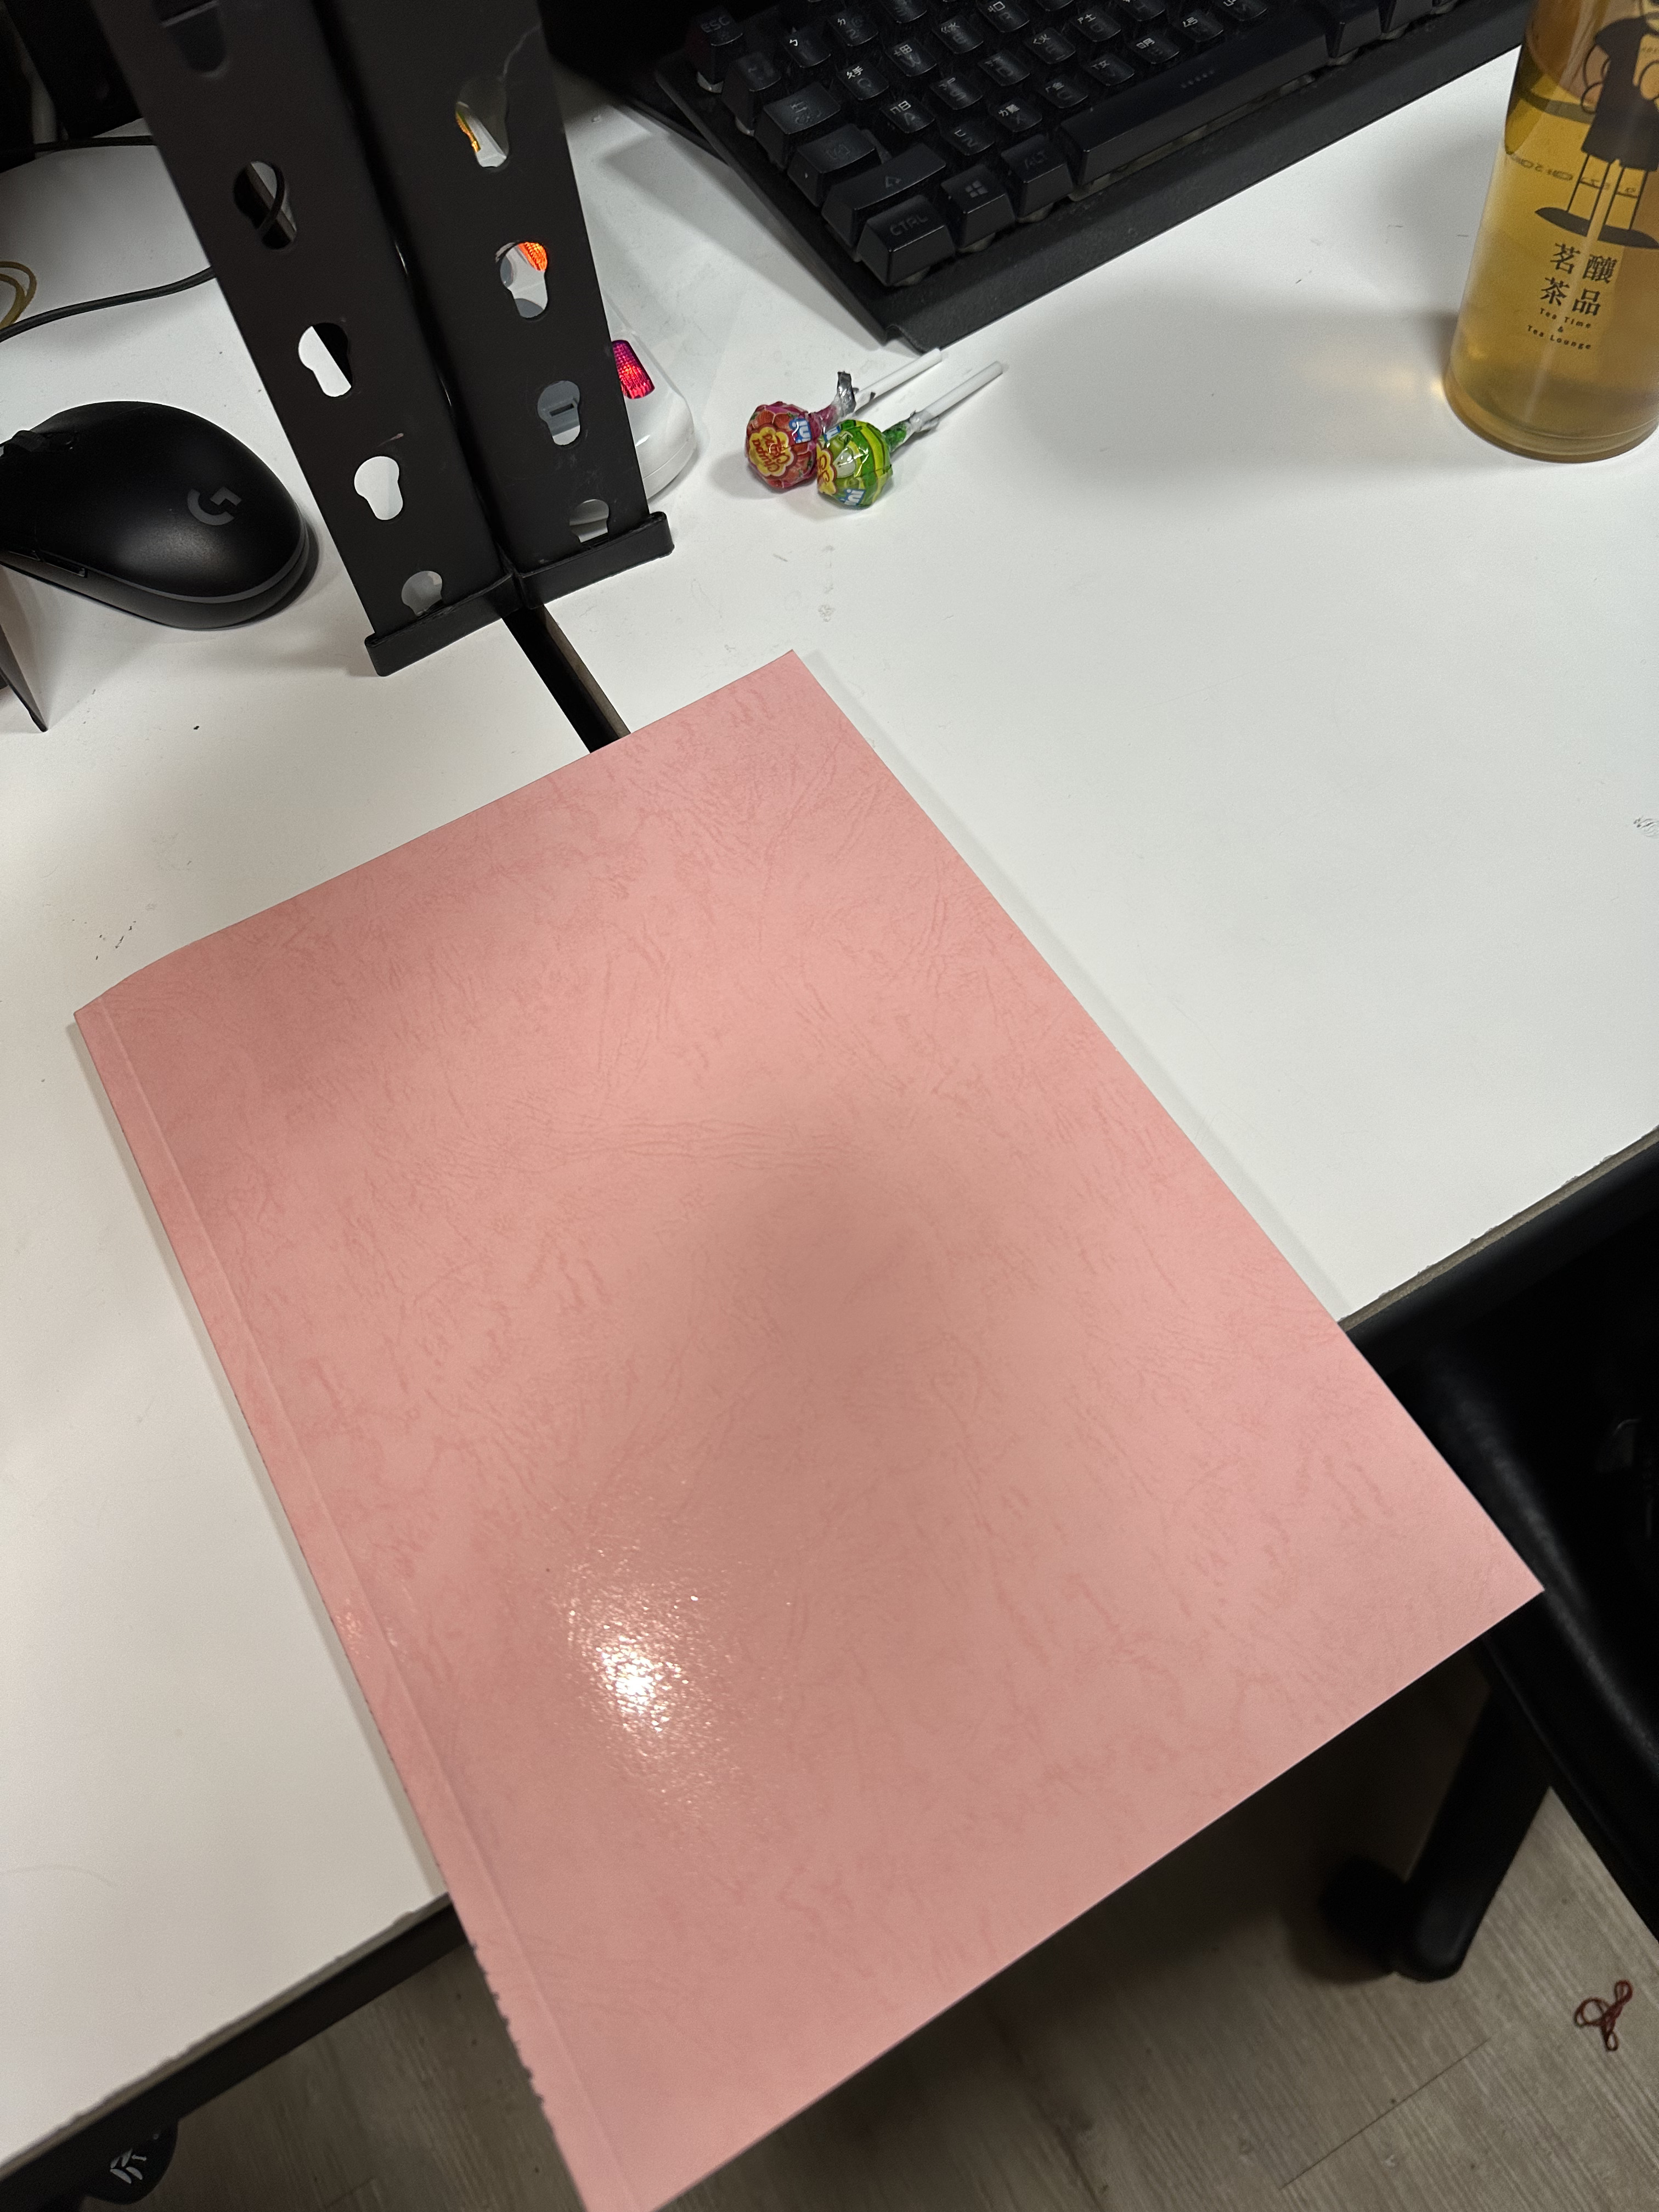book: (71, 651, 1553, 2212)
